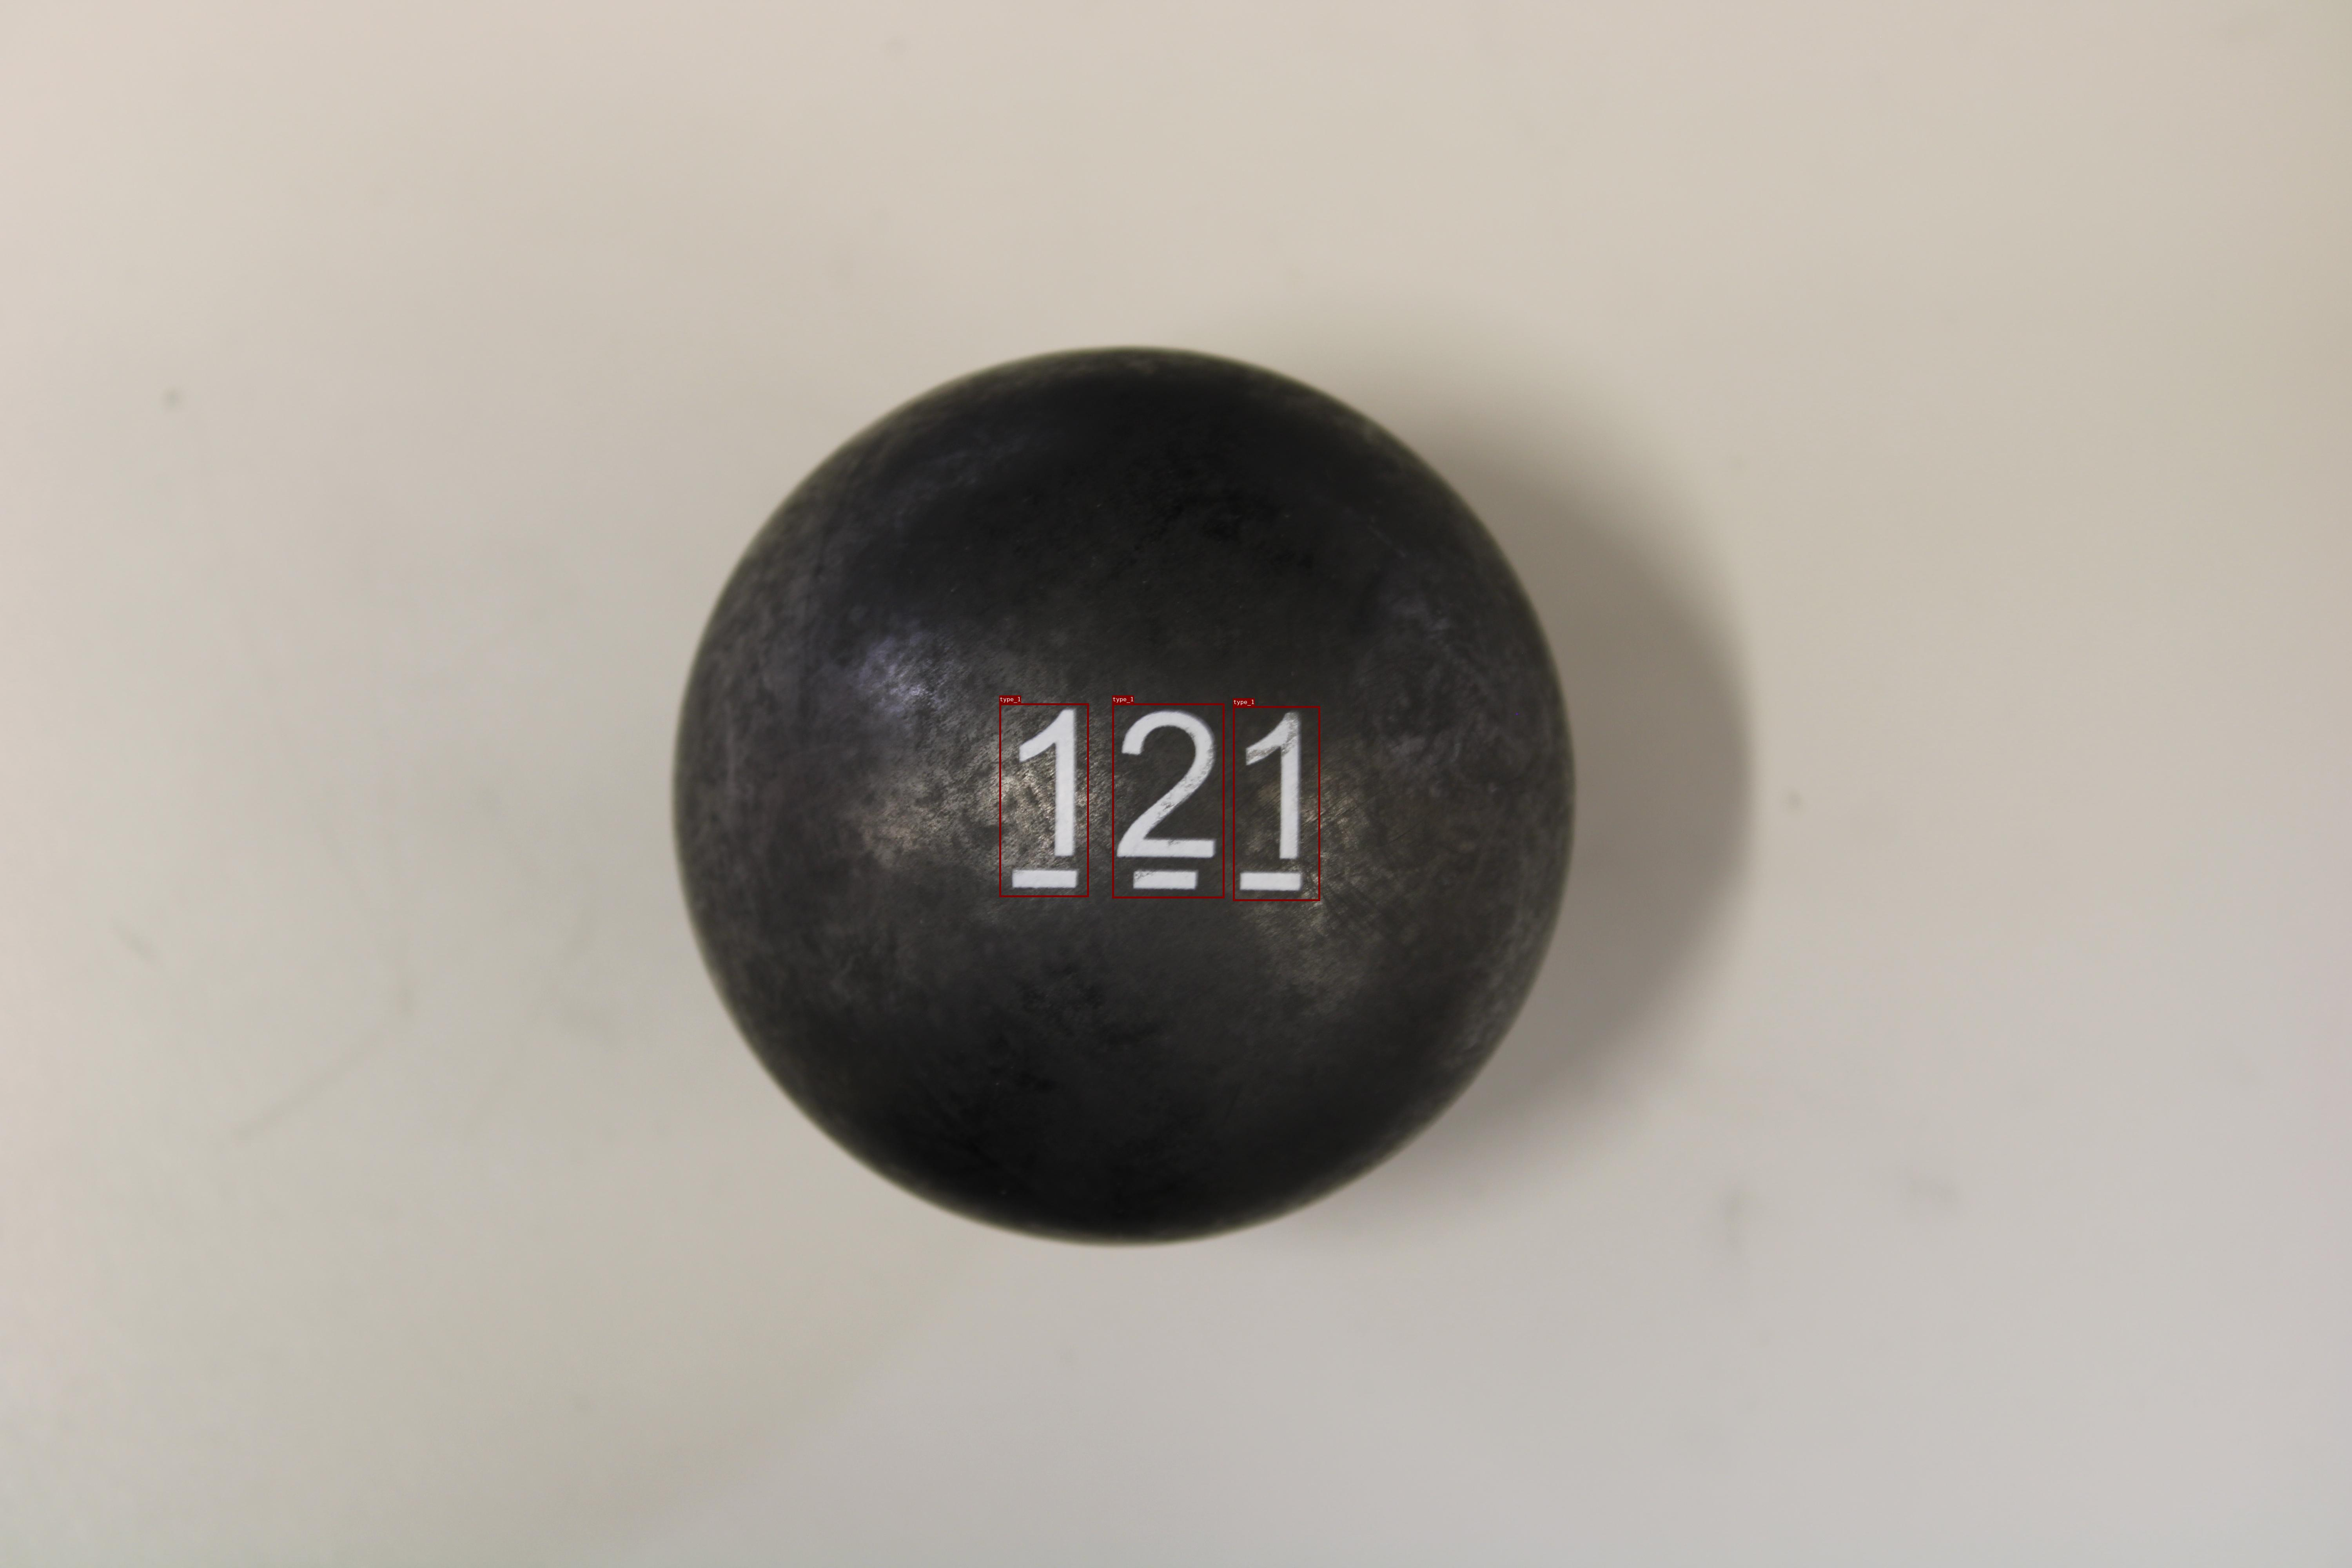type_1: (1111, 703, 1225, 898), (999, 703, 1088, 898), (1232, 705, 1319, 901)
